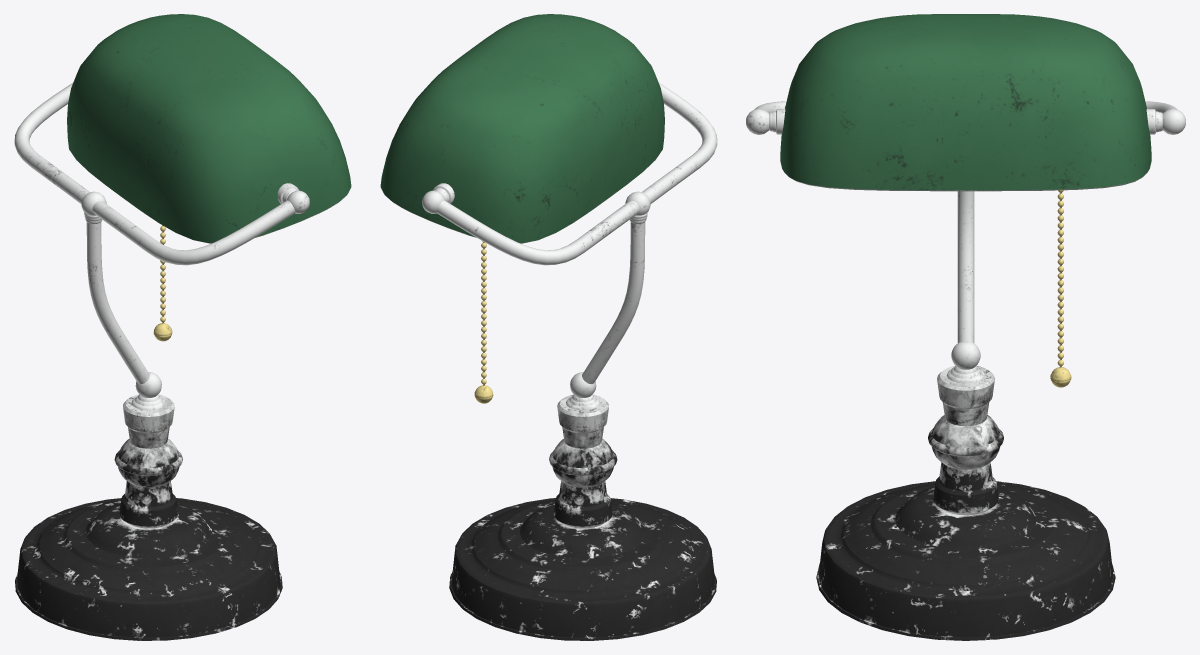
File: lampe_bureau.fbx
3 renders of one model, left to right at view 1: azimuth 30°, elevation 25°; view 2: azimuth 150°, elevation 25°; view 3: azimuth 270°, elevation 25°, orthographic. The views are drawn at different scales.
Parts seen in each view (by area): view 1: desk_Lamp; view 2: desk_Lamp; view 3: desk_Lamp.
Part boxes in pixels (bbox=[...]): desk_Lamp: bbox=[14, 14, 351, 640]; desk_Lamp: bbox=[380, 14, 717, 640]; desk_Lamp: bbox=[746, 14, 1185, 640].
Size of the model in its own units: 20.24 by 38.2 by 26.17.
1 material, 1 textured.
